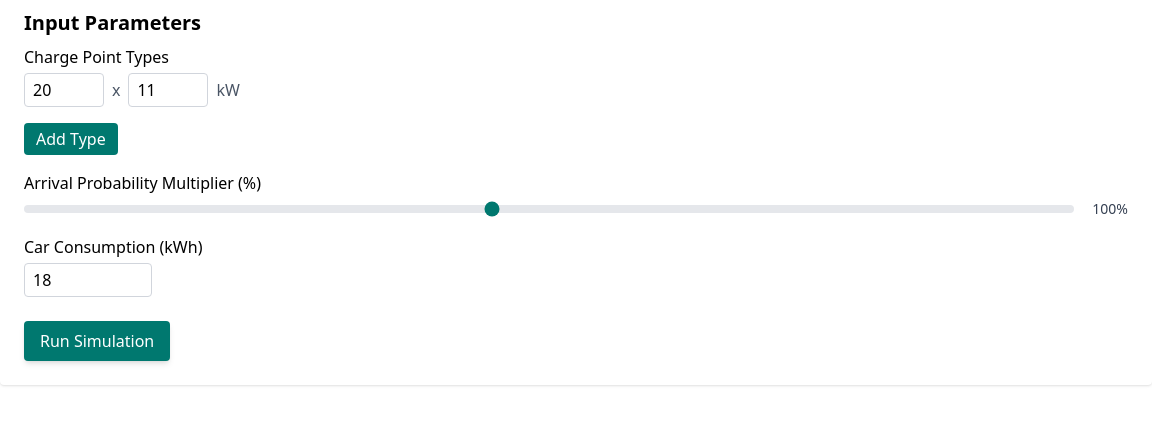
Test: InputSection › allows adding a new charge point type
Click the button "Add Type": x=71, y=139 [24,123,118,155]
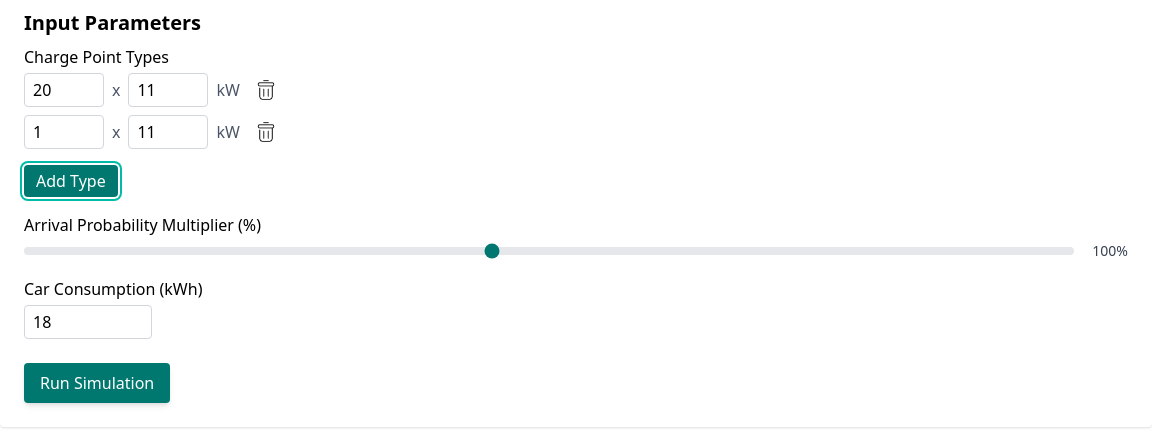
Result: the number of number fields is 5 at [24,73,104,107]; [128,73,208,107]; [24,115,104,149]; [128,115,208,149]; [24,305,152,339]
